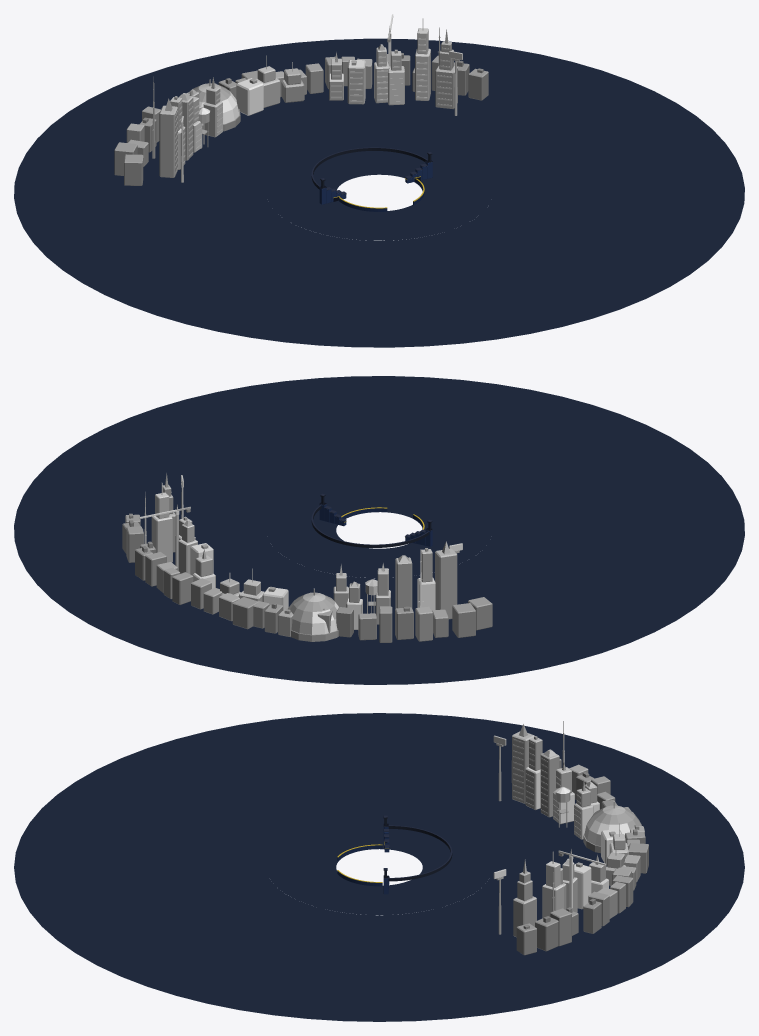
Rendered from sk-skyline.glb.
The picture shows the model from 3 angles, top to bottom: view 1: azimuth 30°, elevation 25°; view 2: azimuth 150°, elevation 25°; view 3: azimuth 270°, elevation 25°; orthographic projection.
Parts seen in each view (by area): view 1: setEdge, skyline; view 2: setEdge, skyline; view 3: setEdge, skyline.
Boxes of the visible parts, x1,y1,x2,y2 form: setEdge: (14,38,744,347); skyline: (114,14,488,185); setEdge: (14,376,744,684); skyline: (122,473,492,642); setEdge: (14,713,744,1021); skyline: (493,721,648,955).
Bounding box in the file's own units: 220 × 27.05 × 220.
